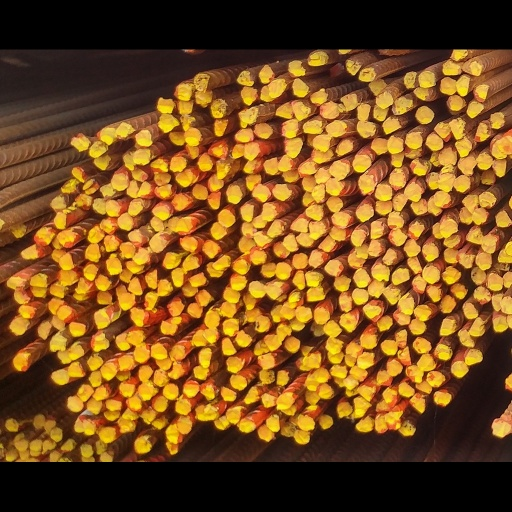dipstick: (7, 332, 31, 355), (265, 288, 286, 313), (282, 109, 303, 134), (397, 368, 418, 392), (329, 137, 350, 161), (352, 431, 372, 456), (105, 252, 123, 279), (392, 58, 413, 81), (253, 225, 274, 248), (158, 80, 179, 103), (70, 103, 91, 126), (439, 210, 459, 234), (440, 268, 460, 292), (492, 458, 512, 482), (404, 163, 422, 189), (325, 87, 346, 109), (405, 391, 425, 414), (352, 129, 372, 152), (182, 251, 202, 274), (98, 96, 118, 119), (406, 256, 425, 280), (298, 134, 317, 158), (268, 36, 287, 60), (252, 166, 271, 190), (164, 465, 183, 489), (90, 351, 109, 375), (434, 89, 452, 114), (357, 155, 375, 180), (353, 271, 371, 296), (449, 85, 466, 111), (462, 11, 483, 32), (382, 83, 402, 105), (272, 166, 292, 188), (320, 64, 340, 86), (89, 112, 109, 134), (44, 307, 64, 329), (415, 70, 434, 93), (371, 264, 390, 287), (473, 293, 491, 317), (226, 168, 243, 193), (312, 121, 333, 141), (57, 273, 77, 294), (12, 377, 32, 398), (438, 122, 457, 144), (450, 386, 469, 408), (374, 166, 393, 188), (388, 222, 407, 244), (391, 270, 410, 292), (174, 41, 193, 63), (134, 99, 153, 121), (13, 294, 32, 316), (462, 179, 480, 202), (437, 153, 455, 176), (475, 251, 493, 274), (422, 268, 440, 291), (389, 152, 407, 175), (356, 191, 374, 214), (326, 158, 344, 181), (184, 96, 202, 119), (222, 333, 240, 356), (151, 426, 169, 449), (111, 152, 129, 175), (368, 284, 385, 308), (340, 327, 357, 351), (292, 35, 309, 59), (259, 18, 276, 42), (324, 261, 344, 281), (253, 91, 273, 111), (211, 60, 227, 85), (208, 116, 228, 136), (410, 135, 429, 156), (275, 425, 294, 446), (263, 353, 282, 374), (317, 229, 336, 250), (313, 106, 332, 127), (265, 212, 284, 233), (156, 59, 175, 80), (35, 221, 54, 242), (473, 43, 491, 65), (440, 34, 458, 56), (465, 220, 483, 242), (458, 133, 476, 155), (404, 101, 422, 123), (434, 364, 452, 386), (438, 305, 456, 327), (417, 377, 435, 399), (369, 35, 387, 57), (348, 250, 366, 272), (308, 213, 326, 235), (118, 454, 136, 476), (86, 431, 104, 453), (132, 245, 150, 267), (455, 109, 472, 132), (486, 276, 503, 299), (469, 332, 486, 355), (422, 240, 439, 263), (308, 248, 325, 271), (329, 215, 346, 238), (250, 243, 267, 266), (293, 65, 310, 88), (193, 29, 210, 52), (202, 235, 219, 258), (117, 202, 134, 225), (50, 180, 67, 203), (100, 388, 117, 411), (392, 177, 408, 201), (282, 86, 298, 110), (241, 45, 257, 69), (198, 127, 214, 151), (145, 273, 161, 297), (130, 320, 146, 344), (94, 323, 110, 347), (305, 274, 324, 294), (306, 292, 325, 312), (237, 456, 256, 476), (331, 202, 350, 222), (166, 312, 185, 332), (152, 192, 172, 211), (154, 167, 174, 186), (418, 26, 436, 47), (467, 64, 485, 85), (425, 104, 443, 125), (434, 175, 452, 196), (410, 184, 428, 205), (458, 348, 476, 369), (413, 356, 431, 377), (397, 307, 415, 328), (404, 235, 422, 256), (375, 52, 393, 73), (357, 88, 375, 109), (324, 336, 342, 357), (325, 181, 343, 202), (238, 230, 256, 251), (260, 44, 278, 65), (155, 377, 173, 398), (194, 297, 212, 318), (163, 251, 181, 272), (172, 178, 190, 199), (387, 107, 404, 129), (357, 374, 374, 396), (295, 317, 312, 339), (284, 354, 301, 376), (275, 264, 292, 286), (263, 133, 280, 155), (218, 198, 235, 220), (210, 214, 227, 236), (200, 413, 217, 435), (153, 397, 170, 419), (157, 285, 174, 307), (474, 91, 490, 114), (481, 230, 497, 253), (471, 269, 487, 292), (382, 421, 398, 444), (408, 213, 424, 236), (312, 166, 328, 189), (244, 115, 260, 138), (208, 153, 224, 176), (77, 415, 93, 438), (50, 353, 66, 376), (456, 32, 470, 58), (426, 399, 445, 418), (295, 226, 314, 245), (116, 89, 135, 108), (126, 348, 145, 367), (18, 313, 37, 332), (443, 12, 461, 32), (414, 316, 432, 336), (433, 423, 451, 443), (380, 359, 398, 379), (349, 392, 367, 412), (248, 287, 266, 307), (305, 192, 323, 212), (303, 87, 323, 105), (308, 2, 328, 20), (150, 364, 168, 384), (169, 132, 187, 152), (51, 396, 69, 416), (132, 123, 150, 143), (93, 130, 111, 150), (100, 209, 118, 229), (479, 176, 496, 197), (371, 109, 388, 130), (465, 371, 482, 392), (440, 333, 457, 354), (426, 292, 443, 313), (398, 459, 415, 480), (385, 451, 402, 472), (357, 415, 374, 436), (336, 436, 353, 457), (334, 279, 351, 300), (314, 146, 331, 167), (336, 111, 353, 132), (288, 13, 305, 34), (276, 65, 293, 86), (182, 410, 199, 431), (149, 230, 166, 251), (87, 219, 104, 240), (56, 316, 73, 337), (403, 26, 419, 48), (476, 127, 492, 149), (472, 195, 488, 217), (459, 195, 475, 217), (387, 201, 403, 223), (292, 251, 308, 273), (258, 465, 274, 487), (283, 229, 299, 251), (213, 85, 229, 107), (168, 387, 184, 409), (137, 414, 153, 436), (58, 224, 74, 246), (119, 301, 135, 323), (68, 364, 84, 386), (394, 347, 409, 370), (338, 302, 353, 325), (262, 189, 277, 212), (85, 240, 100, 263), (446, 57, 465, 75), (355, 456, 374, 474), (393, 322, 411, 341), (303, 377, 321, 396), (232, 260, 250, 279), (206, 263, 224, 282), (222, 295, 240, 314), (149, 135, 168, 153), (414, 46, 434, 63), (442, 230, 462, 247), (492, 330, 509, 350), (461, 314, 478, 334), (451, 289, 468, 309), (409, 334, 426, 354), (375, 186, 392, 206), (352, 296, 369, 316), (364, 317, 381, 337), (297, 453, 314, 473), (317, 413, 334, 433), (325, 357, 342, 377), (230, 403, 247, 423), (237, 25, 254, 45), (241, 71, 258, 91), (67, 429, 84, 449), (100, 165, 117, 185), (75, 179, 92, 199), (58, 253, 75, 273), (69, 387, 86, 407), (454, 155, 470, 176), (424, 152, 440, 173), (428, 182, 442, 206), (409, 431, 425, 452), (376, 397, 392, 418), (386, 384, 402, 405), (292, 274, 306, 298), (244, 417, 260, 438), (255, 330, 271, 351), (274, 237, 290, 258), (236, 348, 252, 369), (220, 312, 236, 333), (163, 414, 179, 435), (192, 347, 208, 368), (135, 479, 151, 500), (120, 238, 136, 259), (83, 266, 99, 287), (95, 279, 111, 300), (134, 368, 150, 389), (115, 352, 131, 373), (412, 280, 427, 302), (351, 223, 366, 245), (314, 319, 329, 341), (206, 176, 221, 198), (222, 356, 237, 378), (138, 391, 153, 413), (105, 185, 120, 207), (128, 282, 143, 304), (199, 370, 212, 395), (171, 271, 184, 296), (457, 253, 475, 271), (291, 209, 309, 227), (160, 336, 178, 354), (179, 232, 197, 250), (176, 212, 194, 230), (495, 200, 512, 219), (293, 471, 310, 490), (329, 390, 348, 407), (346, 363, 363, 382), (302, 157, 319, 176), (311, 49, 328, 68), (246, 154, 263, 173), (195, 50, 212, 69), (176, 62, 193, 81), (131, 147, 150, 164), (71, 145, 88, 164), (118, 379, 135, 398), (498, 106, 512, 129), (492, 135, 506, 158), (370, 212, 384, 235), (259, 395, 275, 415), (226, 381, 242, 401), (258, 376, 274, 396), (241, 213, 257, 233), (192, 166, 208, 186), (99, 467, 115, 487), (119, 413, 135, 433), (151, 206, 167, 226), (32, 276, 48, 296), (382, 246, 397, 267), (265, 453, 280, 474), (226, 444, 241, 465), (177, 456, 192, 477), (104, 230, 119, 251), (87, 377, 102, 398), (240, 190, 253, 214), (367, 235, 381, 257), (128, 185, 142, 207), (93, 183, 107, 205), (359, 22, 376, 40), (360, 353, 377, 371), (261, 426, 278, 444), (235, 98, 253, 115), (244, 320, 261, 338), (214, 454, 231, 472), (181, 289, 198, 307), (189, 276, 206, 294), (154, 151, 171, 169), (92, 417, 109, 435), (61, 160, 78, 178), (69, 338, 86, 356), (51, 247, 69, 264), (30, 291, 47, 309), (491, 116, 507, 135), (444, 245, 460, 264), (398, 412, 414, 431), (281, 461, 297, 480), (254, 360, 270, 379), (280, 315, 296, 334), (230, 280, 246, 299), (220, 417, 236, 436), (193, 392, 209, 411), (169, 367, 185, 386), (204, 326, 220, 345), (187, 314, 203, 333), (125, 261, 144, 277), (373, 68, 388, 88), (123, 129, 138, 149), (375, 453, 388, 476), (144, 300, 157, 323), (347, 11, 361, 32), (343, 55, 357, 76), (279, 130, 293, 151), (53, 202, 67, 223), (327, 373, 344, 390), (480, 150, 496, 168), (175, 435, 191, 453), (56, 372, 72, 390), (357, 66, 370, 88), (377, 330, 392, 349), (305, 422, 320, 441), (314, 394, 329, 413), (261, 263, 276, 282), (302, 175, 317, 194), (490, 78, 504, 98), (276, 397, 290, 417), (88, 398, 102, 418), (500, 305, 512, 328), (491, 302, 503, 325), (126, 163, 139, 184), (252, 204, 268, 221), (169, 103, 186, 119), (96, 299, 112, 316), (319, 453, 334, 471), (127, 430, 142, 448), (345, 403, 359, 422), (204, 441, 218, 460), (82, 459, 95, 479), (289, 334, 305, 350), (105, 432, 121, 448), (390, 129, 405, 146), (282, 149, 299, 164), (138, 163, 152, 181), (432, 214, 444, 234), (61, 482, 76, 498), (451, 0, 468, 14), (498, 247, 512, 264), (5, 457, 19, 474), (50, 469, 63, 487), (33, 451, 45, 470), (73, 456, 85, 475), (231, 117, 244, 134), (502, 274, 512, 296), (44, 459, 56, 477), (344, 378, 357, 394), (80, 489, 93, 505), (5, 496, 19, 510), (376, 435, 389, 449), (164, 487, 177, 501), (14, 484, 28, 497), (30, 484, 42, 498), (505, 238, 512, 256)
